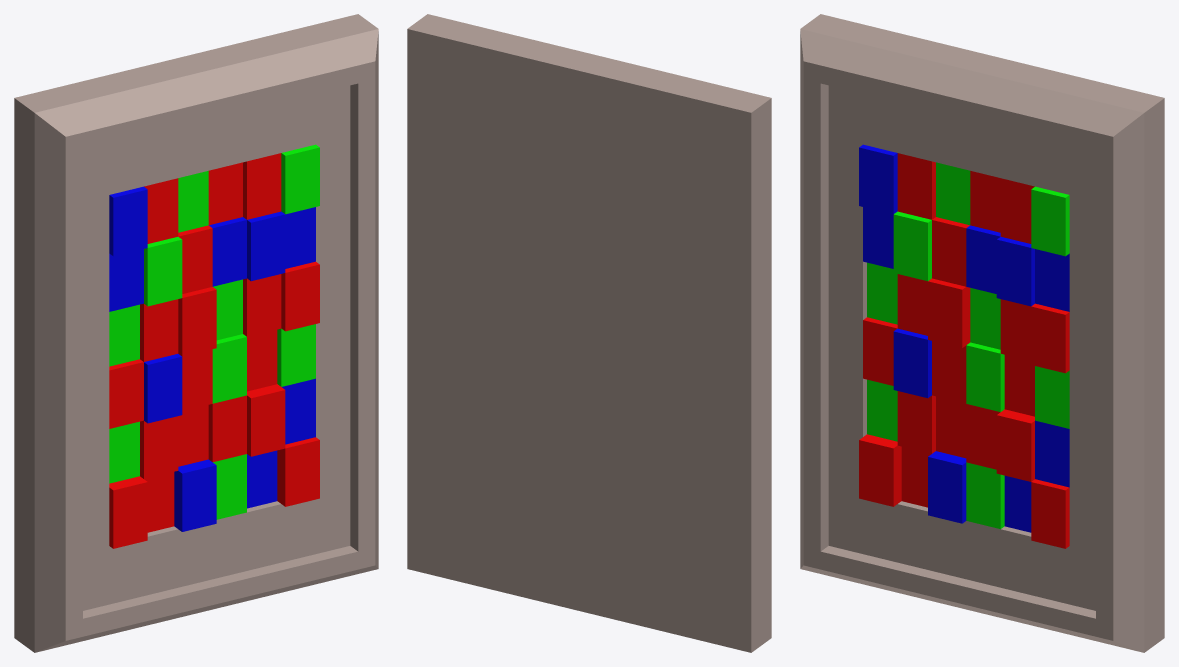
Rendered from Panel.fbx.
3 views of the same model, side by side, from view 1: azimuth 30°, elevation 25°; view 2: azimuth 150°, elevation 25°; view 3: azimuth 330°, elevation 25° (orthographic).
Parts seen in each view (by area): view 1: Cube; view 2: Cube; view 3: Cube.
Part boxes in pixels (<box>): Cube: <box>14,14,378,652</box>; Cube: <box>407,14,771,652</box>; Cube: <box>800,14,1164,652</box>.
Bounding box in the file's own units: 50 × 75 × 8.63.
